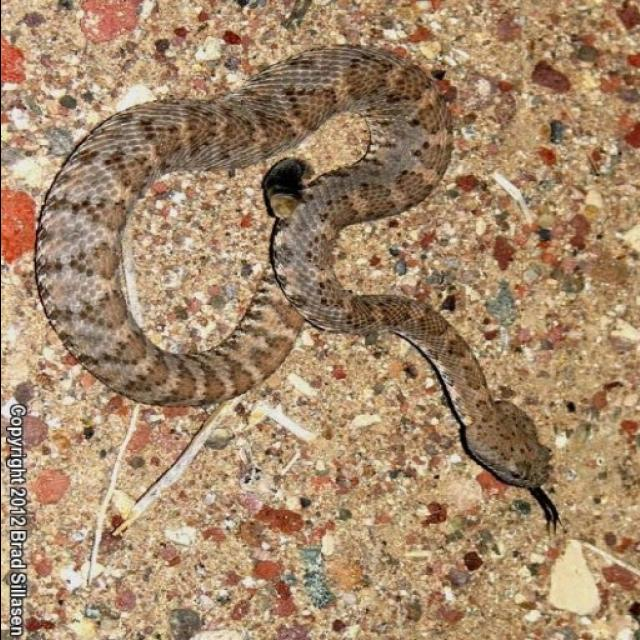snake: (47, 46, 563, 540)
